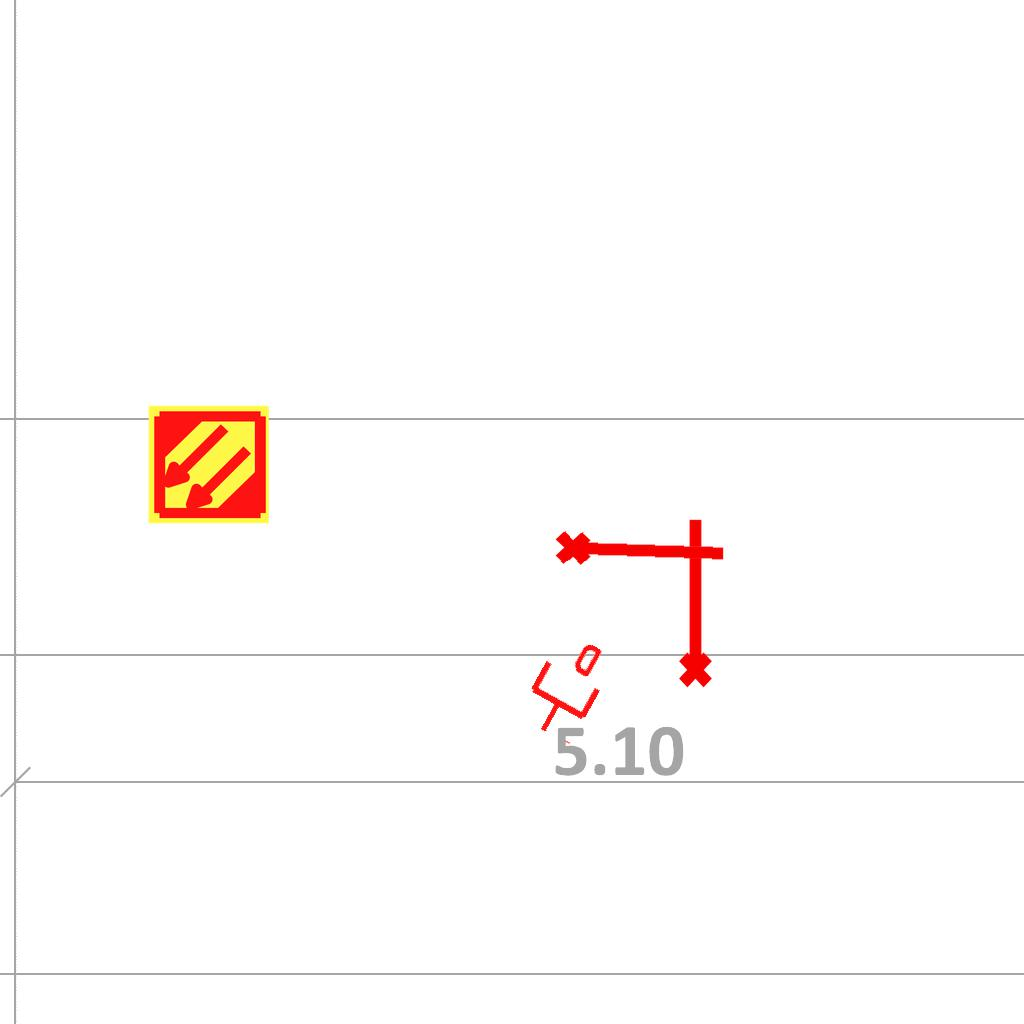ASR_Ansaugoeffnung: (552, 521, 730, 575), (670, 514, 716, 690)
ASR_Ansaugrauchmelder: (146, 402, 271, 527)
Datenanschluss_einfach: (512, 627, 621, 749)
